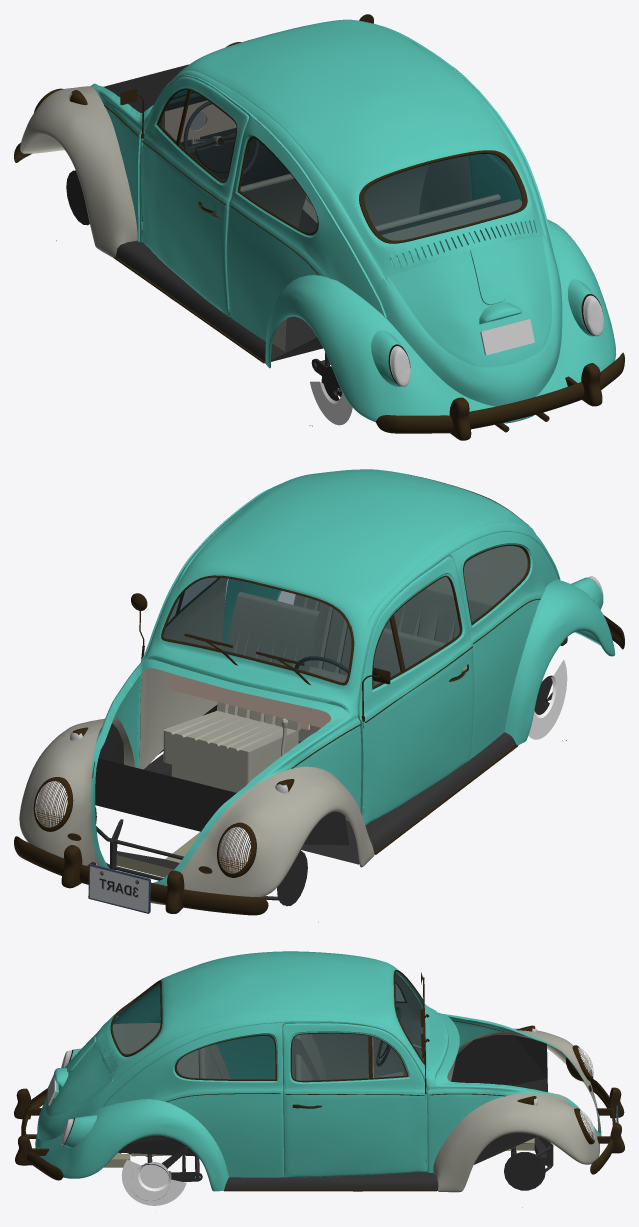
Rendered from coche.obj.
3 renders of one model, top to bottom at view 1: azimuth 30°, elevation 25°; view 2: azimuth 150°, elevation 25°; view 3: azimuth 270°, elevation 25°, orthographic. The views are drawn at different scales.
Parts seen in each view (by area): view 1: VWBeetle_Green, VWBeetle_Green0, VWBeetle_Glass, VWBeetle_crome, VWBeetle_Interior0, VWBeetle_Interior, VWBeetle_Black, VWBeetle_Black0, VWBeetle_Turquese_blue, VWBeetle_Cream, VWBeetle_Place0, VWBeetle_white (+1 smaller); view 2: VWBeetle_Green, VWBeetle_Interior0, VWBeetle_Glass, VWBeetle_Interior, VWBeetle_crome, VWBeetle_Black, VWBeetle_Black0, VWBeetle_Cream, VWBeetle_Glass0, VWBeetle_Place, VWBeetle_Green0, VWBeetle_white (+2 smaller); view 3: VWBeetle_Green, VWBeetle_Glass, VWBeetle_Interior, VWBeetle_Interior0, VWBeetle_Black, VWBeetle_crome, VWBeetle_Green0, VWBeetle_Black0, VWBeetle_white, VWBeetle_Crome0, VWBeetle_Turquese_blue, VWBeetle_interior1 (+1 smaller).
Boxes of the visible parts, left/top/right/bottom form: VWBeetle_Green: left=90, top=19, right=615, bottom=423; VWBeetle_Green0: left=137, top=26, right=562, bottom=406; VWBeetle_Glass: left=160, top=79, right=522, bottom=240; VWBeetle_crome: left=14, top=14, right=624, bottom=440; VWBeetle_Interior0: left=215, top=155, right=522, bottom=351; VWBeetle_Interior: left=20, top=86, right=141, bottom=258; VWBeetle_Black: left=103, top=64, right=342, bottom=400; VWBeetle_Black0: left=66, top=144, right=265, bottom=361; VWBeetle_Turquese_blue: left=371, top=279, right=594, bottom=386; VWBeetle_Cream: left=162, top=100, right=236, bottom=143; VWBeetle_Place0: left=480, top=319, right=534, bottom=355; VWBeetle_white: left=310, top=381, right=352, bottom=425; VWBeetle_Green: left=90, top=469, right=614, bottom=885; VWBeetle_Interior0: left=139, top=546, right=527, bottom=820; VWBeetle_Glass: left=163, top=546, right=527, bottom=686; VWBeetle_Interior: left=19, top=668, right=374, bottom=905; VWBeetle_crome: left=14, top=474, right=624, bottom=915; VWBeetle_Black: left=95, top=637, right=567, bottom=900; VWBeetle_Black0: left=95, top=705, right=516, bottom=906; VWBeetle_Cream: left=169, top=672, right=331, bottom=729; VWBeetle_Glass0: left=35, top=781, right=250, bottom=873; VWBeetle_Place: left=88, top=864, right=150, bottom=913; VWBeetle_Green0: left=137, top=484, right=560, bottom=816; VWBeetle_white: left=528, top=659, right=567, bottom=739; VWBeetle_Green: left=35, top=951, right=601, bottom=1191; VWBeetle_Glass: left=112, top=971, right=423, bottom=1080; VWBeetle_Interior: left=433, top=1014, right=600, bottom=1192; VWBeetle_Interior0: left=100, top=973, right=427, bottom=1177; VWBeetle_Black: left=118, top=1035, right=553, bottom=1200; VWBeetle_crome: left=14, top=970, right=624, bottom=1191; VWBeetle_Green0: left=37, top=953, right=430, bottom=1172; VWBeetle_Black0: left=224, top=1083, right=545, bottom=1190; VWBeetle_white: left=121, top=1159, right=186, bottom=1205; VWBeetle_Crome0: left=572, top=1045, right=594, bottom=1144; VWBeetle_Turquese_blue: left=64, top=1048, right=97, bottom=1148; VWBeetle_interior1: left=103, top=1138, right=534, bottom=1167.
Bounding box in the file's own units: 9.25 × 8.51 × 24.2.
